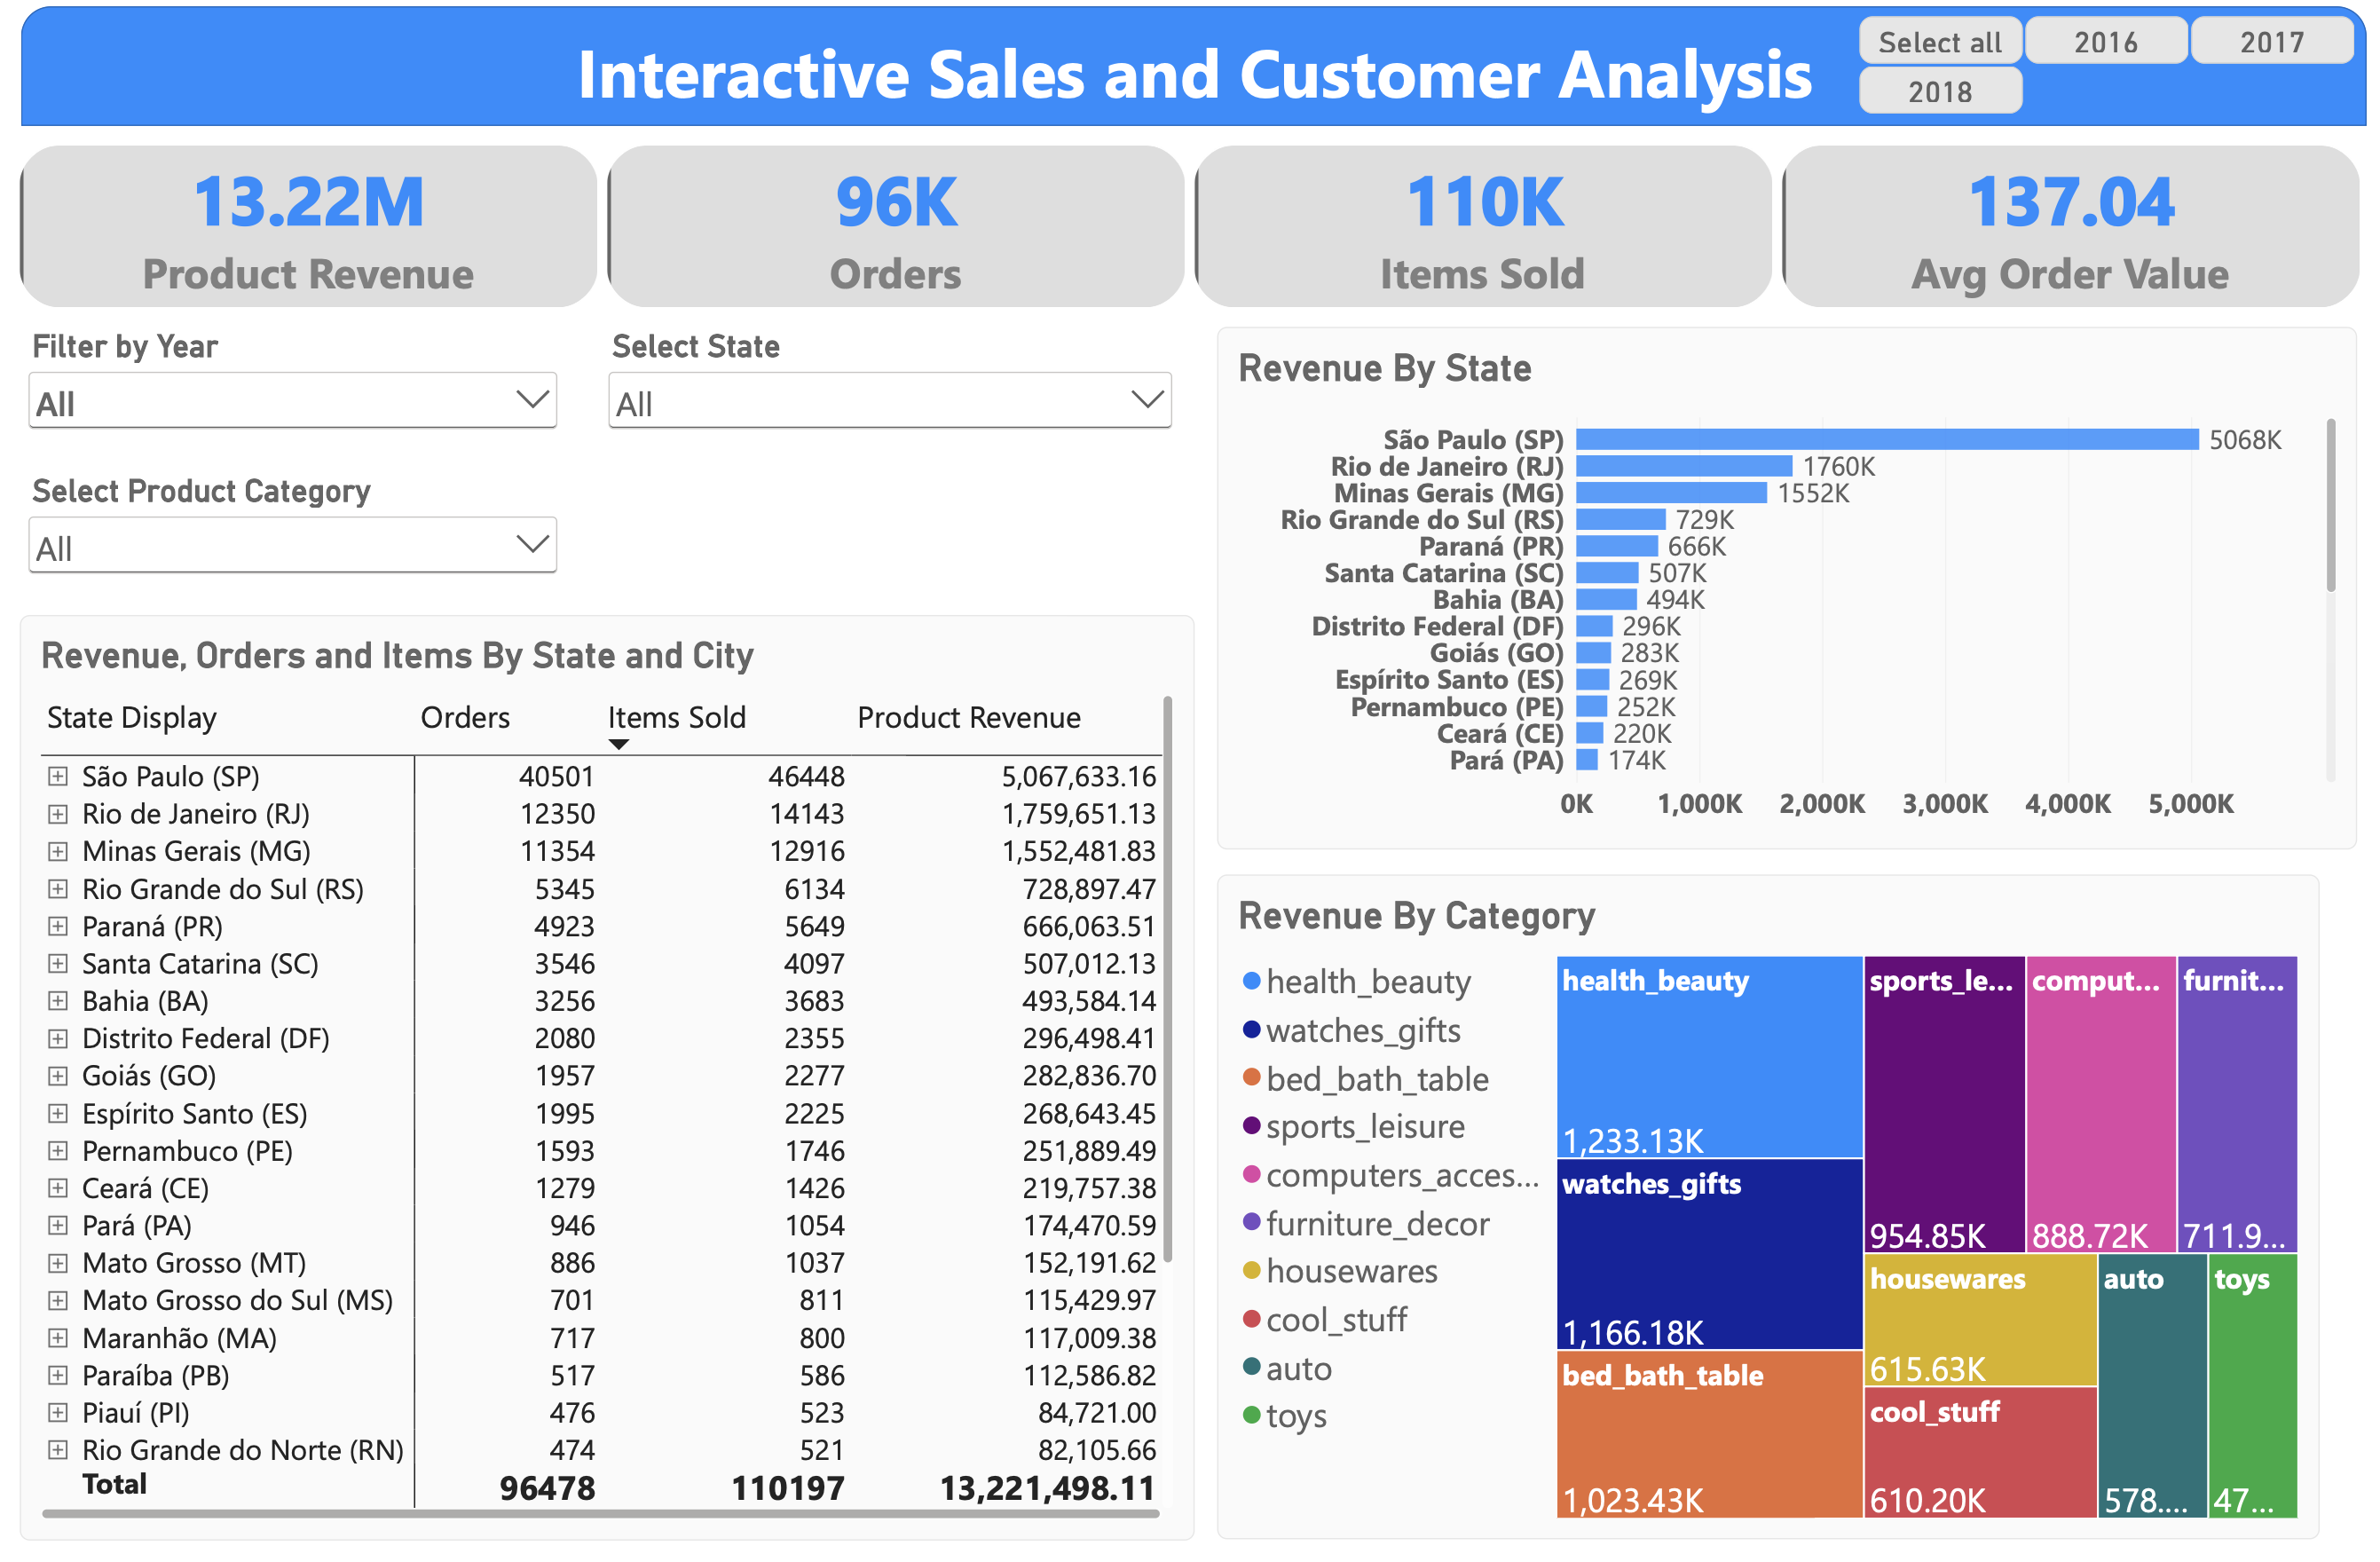

Layout of this report page (visuals, bound fields, positions):
{"tool":"powerbi","page":{"name":"Interactive Analysis","canvas":[1920,1250],"ordinal":2},"visuals":[{"type":"cardVisual","fields":{"Data":["FactSales.Product Revenue","FactSales.Orders","FactSales.Items Sold","FactSales.Avg Order Value"]},"box":[17.8,111.7,1879.4,129.5],"z":0},{"type":"shape","box":[18.8,0,1880.6,95.9],"z":1000},{"type":"pivotTable","title":"Revenue, Orders and Items By State and City ","fields":{"Rows":["DimLocation.State Display","DimLocation.LocationCity"],"Values":["FactSales.Orders","FactSales.Items Sold","FactSales.Product Revenue"]},"box":[17.8,487.6,942.2,741.6],"z":2000},{"type":"textbox","box":[454.5,14.6,1011.2,81.3],"z":3000},{"type":"advancedSlicerVisual","fields":{"Values":["DimDate.CalendarYear"]},"box":[1492.8,8.3,398.2,79.2],"z":4000},{"type":"clusteredBarChart","title":"Revenue By State","fields":{"Category":["DimLocation.State Display"],"Y":["FactSales.Product Revenue"]},"box":[977.8,256.5,914.3,419],"z":5000},{"type":"slicer","fields":{"Values":["DimDate.CalendarYear"]},"box":[20.3,256.5,434.3,88.9],"z":6000},{"type":"slicer","fields":{"Values":["DimLocation.State Display"]},"box":[485.1,256.5,462.2,88.9],"z":7000},{"type":"slicer","fields":{"Values":["DimProduct.CategoryNameEnglish"]},"box":[20.3,373.3,434.3,88.9],"z":8000},{"type":"treemap","title":"Revenue By Category","fields":{"Group":["DimProduct.CategoryNameEnglish"],"Values":["FactSales.Product Revenue"]},"box":[977.8,695.9,883.8,533.3],"z":9000}]}

Visuals, with their boxes in screenshot pixels (x1, y1, x2, y2), scaled from the page's 1920x1250 canvas onto the 2380x1562 screenshot:
cardVisual - FactSales.Product Revenue x FactSales.Orders: 22/139/2352/302
shape: 23/0/2354/120
"Revenue, Orders and Items By State and City " pivotTable: 22/610/1190/1536
textbox: 563/19/1817/120
advancedSlicerVisual - DimDate.CalendarYear: 1850/11/2344/109
"Revenue By State" clusteredBarChart: 1212/320/2345/844
slicer - DimDate.CalendarYear: 25/320/563/431
slicer - DimLocation.State Display: 602/320/1174/431
slicer - DimProduct.CategoryNameEnglish: 25/467/563/578
"Revenue By Category" treemap: 1212/870/2307/1536
